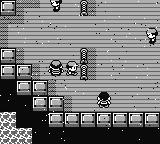captura: (0, 112, 32, 143)
main: (48, 61, 64, 76), (66, 62, 78, 76)
no-caminable: (0, 48, 159, 128), (0, 80, 159, 143), (0, 0, 16, 15)
npc: (48, 61, 64, 76), (97, 93, 112, 107), (145, 29, 158, 43), (49, 0, 62, 12)
